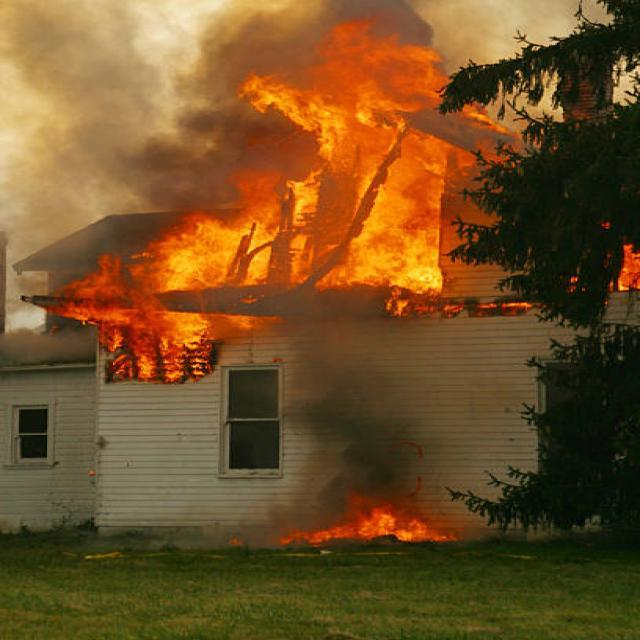Fire: (260, 31, 498, 311), (88, 205, 348, 362), (300, 497, 432, 547)
Smoke: (13, 0, 338, 249), (302, 339, 443, 530)
